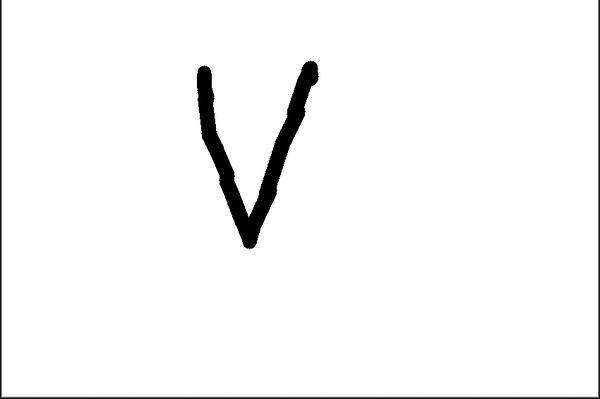V: (193, 53, 333, 254)
